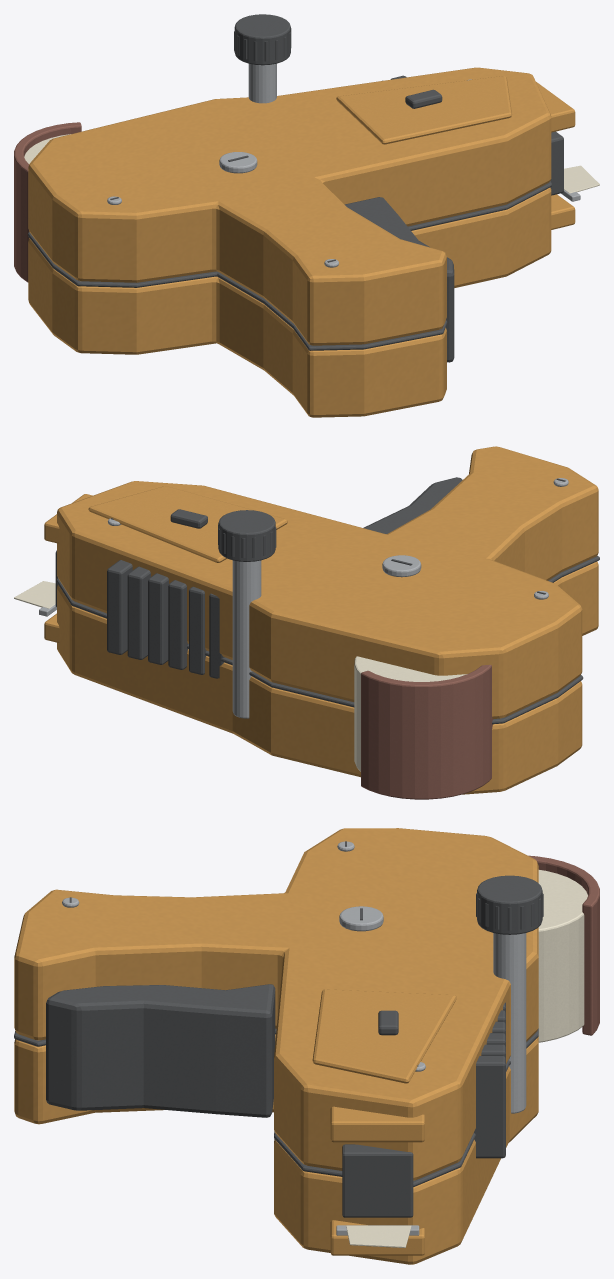
Rendered from price-label-gun.glb.
3 renders of one model, top to bottom at view 1: azimuth 30°, elevation 25°; view 2: azimuth 150°, elevation 25°; view 3: azimuth 270°, elevation 25°, orthographic. The views are drawn at different scales.
Visible parts, largest first — view 1: LabelerOchreABS assembly, LabelerGraphite assembly, LabelerRollCover assembly, LabelerSteel assembly, LabelerPaper assembly; view 2: LabelerOchreABS assembly, LabelerGraphite assembly, LabelerRollCover assembly, LabelerSteel assembly, LabelerPaper assembly; view 3: LabelerOchreABS assembly, LabelerGraphite assembly, LabelerPaper assembly, LabelerSteel assembly, LabelerRollCover assembly.
Boxes of the visible parts, x1,y1,x2,y2 form: LabelerOchreABS assembly: (28,67,575,417); LabelerGraphite assembly: (27,14,563,362); LabelerRollCover assembly: (14,122,81,282); LabelerSteel assembly: (107,63,580,267); LabelerPaper assembly: (24,134,599,193); LabelerOchreABS assembly: (44,446,598,794); LabelerGraphite assembly: (55,477,599,724); LabelerRollCover assembly: (361,664,493,799); LabelerSteel assembly: (39,478,568,718); LabelerPaper assembly: (14,581,467,771); LabelerOchreABS assembly: (14,828,538,1264); LabelerGraphite assembly: (14,841,543,1217); LabelerPaper assembly: (346,870,587,1247); LabelerSteel assembly: (62,841,526,1235); LabelerRollCover assembly: (528,855,599,1035).
Bounding box in the file's own units: 0.7419 × 0.285 × 0.6085.
5 materials, 5 textured.
